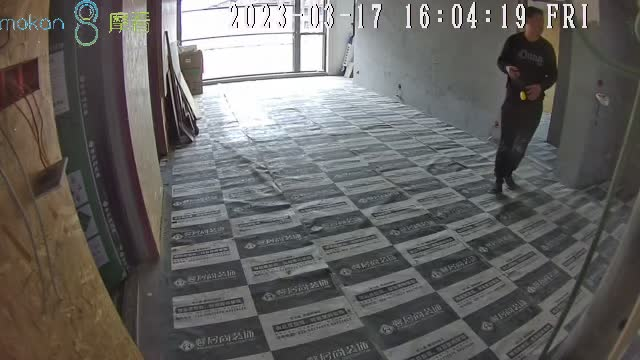people: (486, 7, 559, 194)
window: (180, 2, 323, 80)
